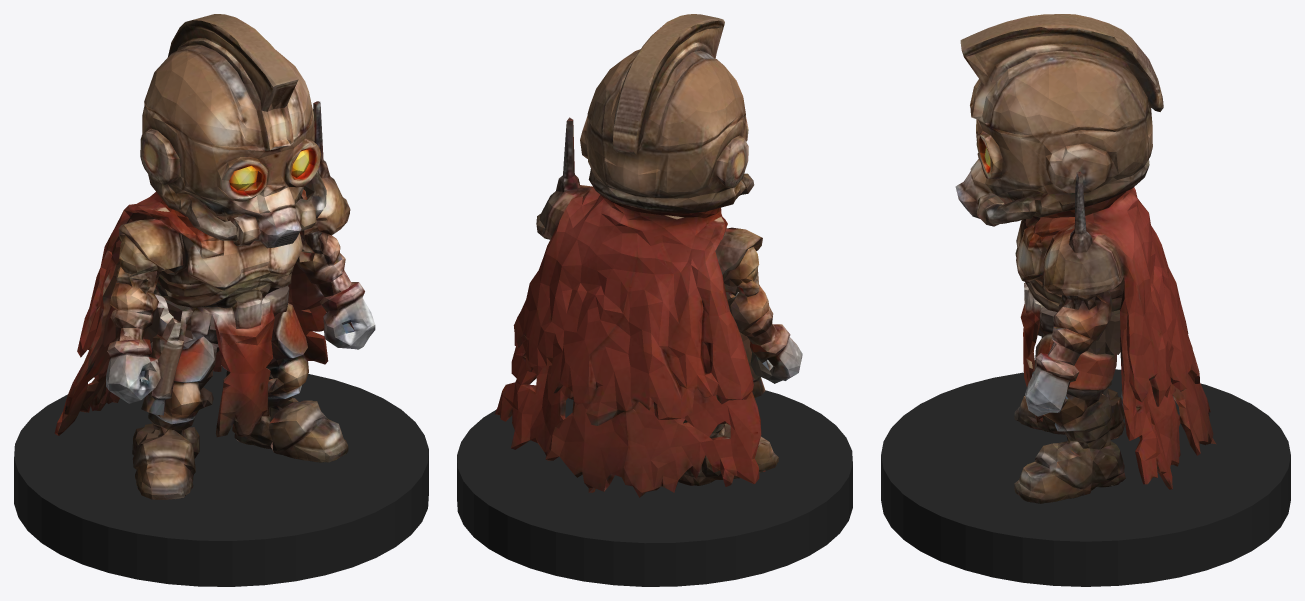
The model's file is hc-skitarii-vanguard-alpha.glb.
3 renders of one model, left to right at view 1: azimuth 30°, elevation 25°; view 2: azimuth 150°, elevation 25°; view 3: azimuth 270°, elevation 25°, orthographic. The views are drawn at different scales.
Parts seen in each view (by area): view 1: figure, base; view 2: figure, base; view 3: figure, base.
Part boxes in pixels (x1,y1,x2,y2): figure: [54, 14, 375, 499]; base: [14, 366, 428, 586]; figure: [495, 14, 802, 497]; base: [457, 390, 852, 586]; figure: [955, 14, 1216, 503]; base: [881, 369, 1290, 586].
Bounding box in the file's own units: 0.9843 × 1.27 × 0.9843.
2 materials, 1 textured.
